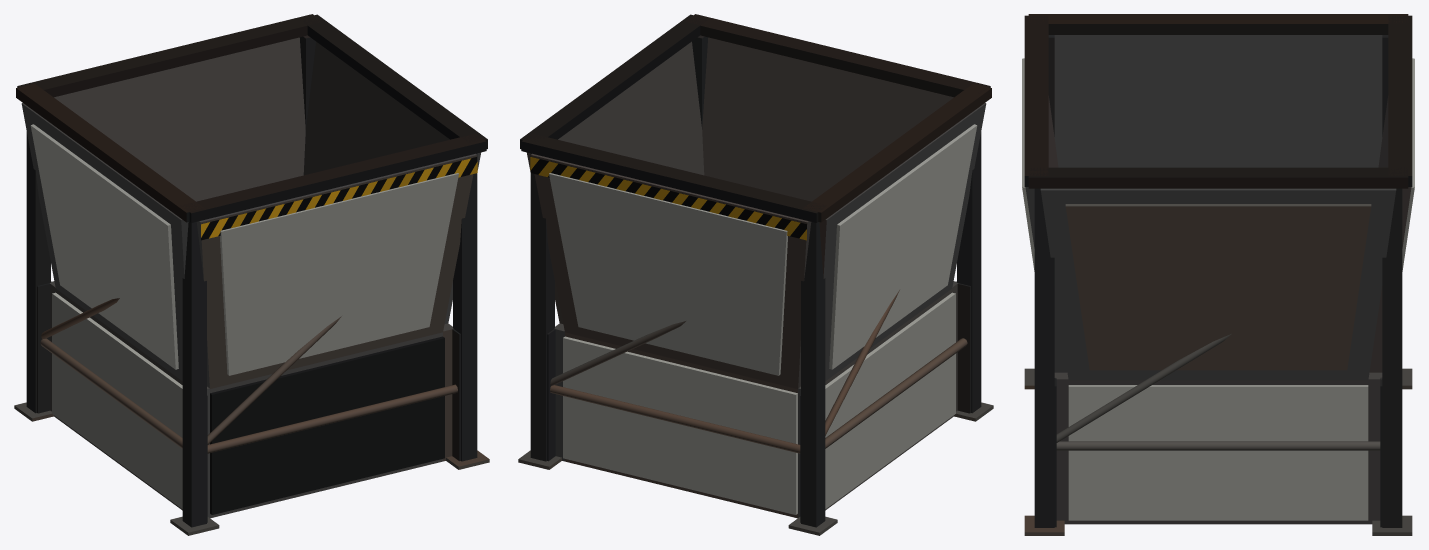
Rendered from chute_hopper_up.glb.
3 views of the same model, side by side, from view 1: azimuth 30°, elevation 25°; view 2: azimuth 150°, elevation 25°; view 3: azimuth 270°, elevation 25° (orthographic). The views are drawn at different scales.
Visible parts, largest first — view 1: Frame; view 2: Frame; view 3: Frame.
Part boxes in pixels (bbox=[...]): Frame: bbox=[14, 14, 489, 535]; Frame: bbox=[518, 14, 993, 535]; Frame: bbox=[1022, 14, 1414, 535].
Bounding box in the file's own units: 1.97 × 1.98 × 1.97.
